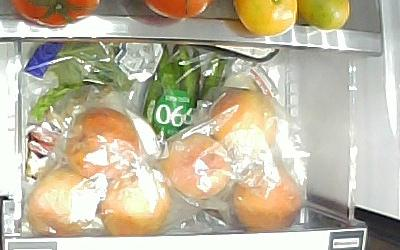peach_vinyl: (64, 108, 141, 184), (164, 133, 232, 203), (234, 165, 301, 232), (28, 168, 96, 234), (100, 172, 169, 235), (211, 87, 277, 145)
